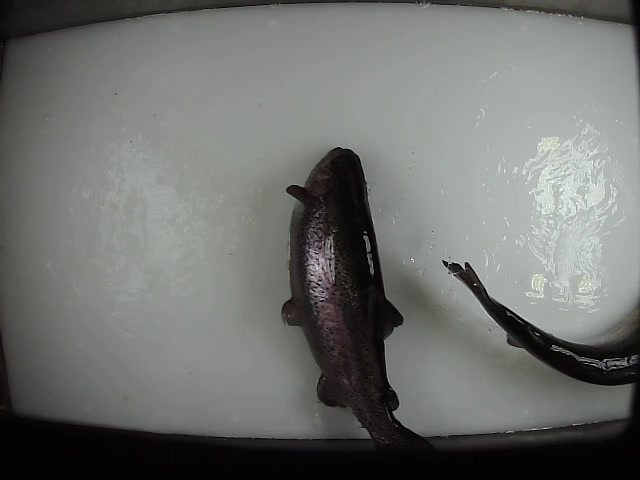fish: (280, 145, 439, 453), (441, 258, 640, 387)
